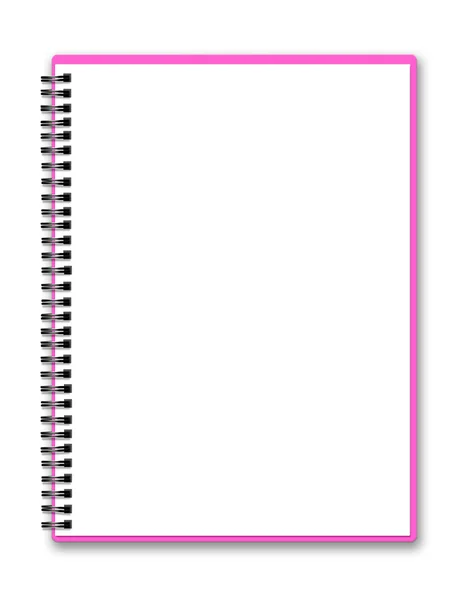page: (76, 69, 406, 532)
